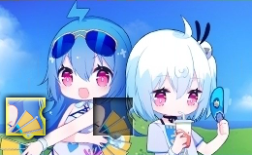gap: (93, 97, 134, 139)
